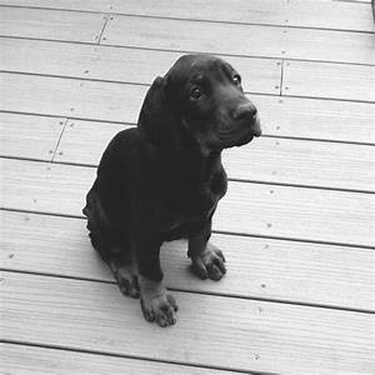dog: (64, 42, 270, 333)
